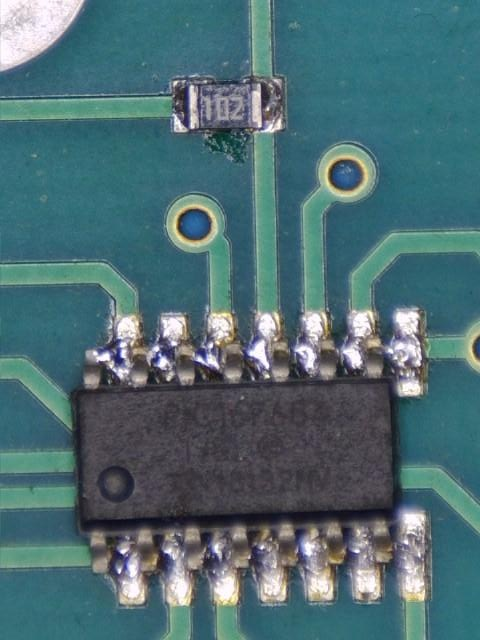pcb_defect: (71, 310, 430, 607), (90, 512, 431, 607), (83, 309, 424, 398)
